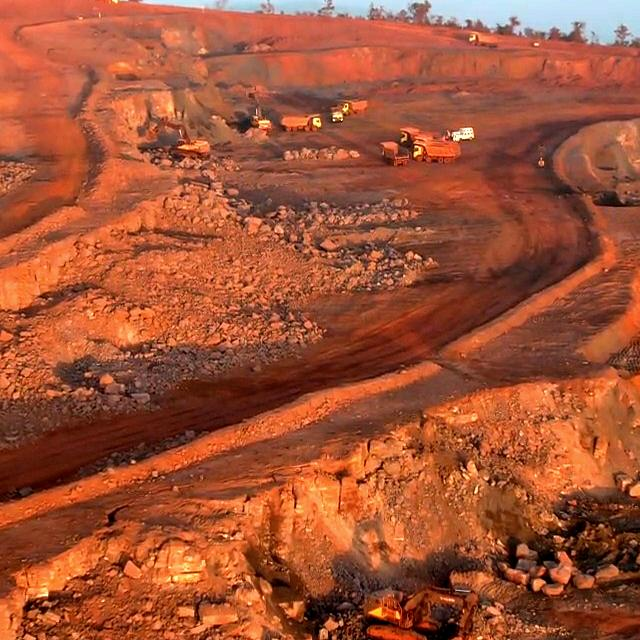Dumper truck: (413, 142, 459, 161), (281, 114, 322, 132), (339, 96, 371, 117), (380, 141, 405, 162), (469, 33, 497, 45)
Excavator: (367, 579, 489, 640), (171, 136, 214, 160), (248, 110, 272, 128)
car: (453, 132, 474, 141)
